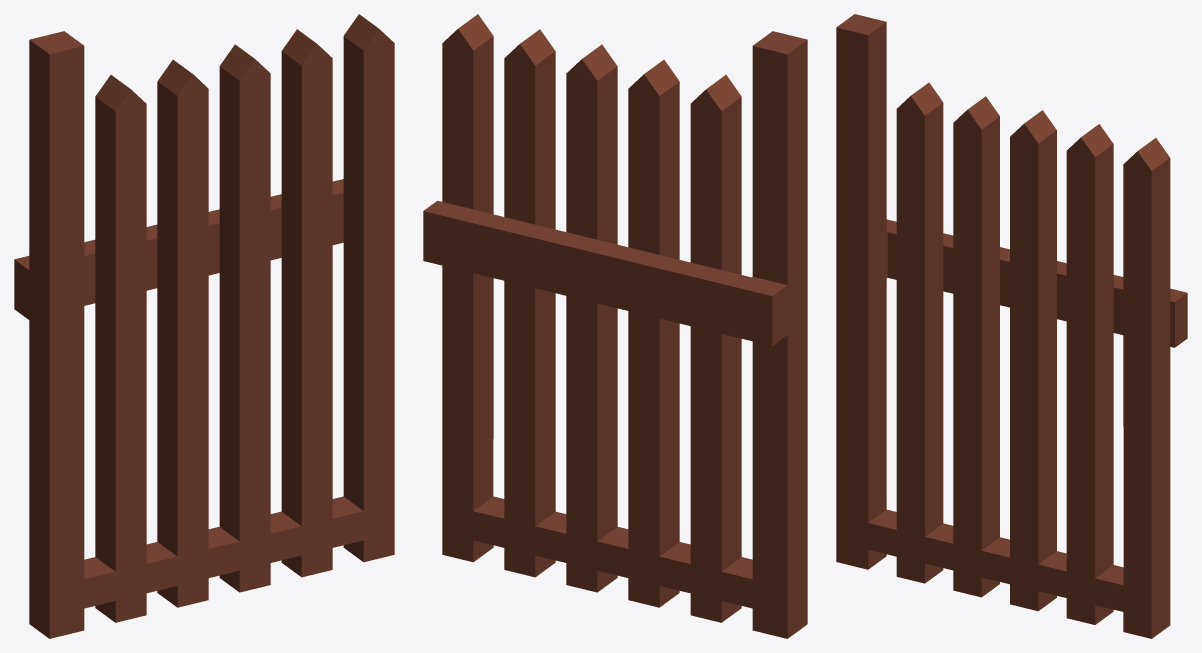
File: Picket Fence start Tall.fbx
3 renders of one model, left to right at view 1: azimuth 30°, elevation 25°; view 2: azimuth 150°, elevation 25°; view 3: azimuth 330°, elevation 25°, orthographic. The views are drawn at different scales.
Visible parts, largest first — view 1: Picket Fence start Tall; view 2: Picket Fence start Tall; view 3: Picket Fence start Tall.
Part boxes in pixels (x1,y1,x2,y2): Picket Fence start Tall: (14, 14, 394, 638); Picket Fence start Tall: (423, 14, 807, 638); Picket Fence start Tall: (836, 14, 1187, 638).
Bounding box in the file's own units: 100 × 160 × 17.5.
